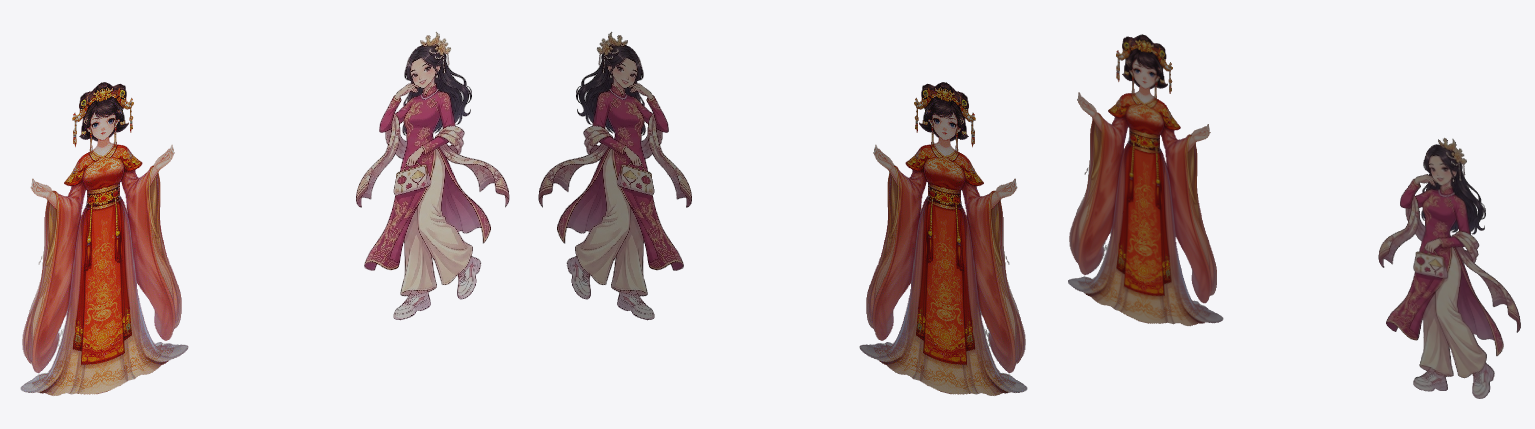
The model's file is tml_objects.glb.
The picture shows the model from 3 angles, left to right: view 1: azimuth 30°, elevation 25°; view 2: azimuth 150°, elevation 25°; view 3: azimuth 330°, elevation 25°; orthographic projection. The views are drawn at different scales.
Visible parts, largest first — view 1: princess, vietnam, princess, vietnam 2; view 2: princess, vietnam, princess, vietnam 2; view 3: princess, vietnam, princess, vietnam 2.
Boxes of the visible parts, left/top/right/bottom form: princess, vietnam: left=20, top=82, right=188, bottom=395; princess, vietnam 2: left=356, top=31, right=509, bottom=320; princess, vietnam: left=859, top=82, right=1027, bottom=395; princess, vietnam 2: left=538, top=31, right=691, bottom=320; princess, vietnam: left=1068, top=34, right=1223, bottom=326; princess, vietnam 2: left=1378, top=137, right=1520, bottom=398.
Bounding box in the file's own units: 3.02 × 1.82 × 8.73e-08.
2 materials, 2 textured.
